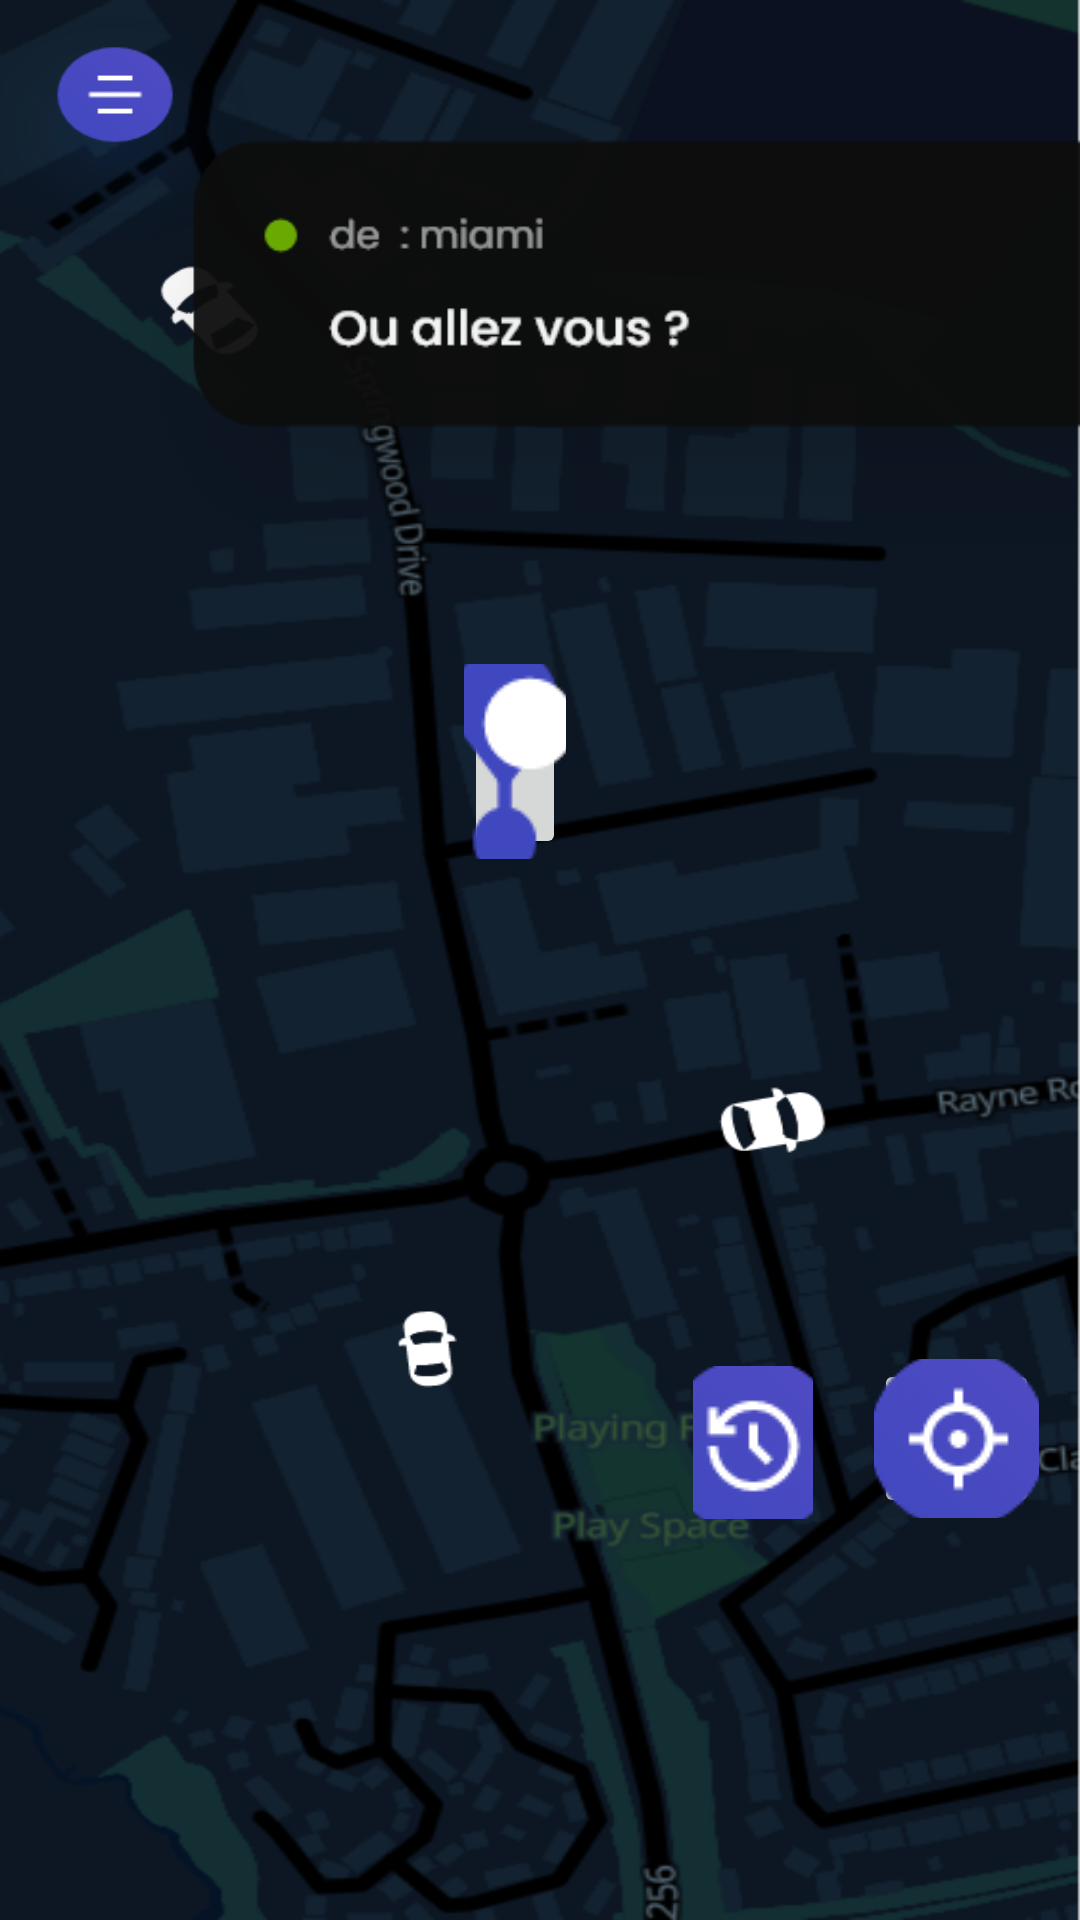

Icons on this 1080x1920 Android screen, each with the point to tap as [x,y]:
locate: [956,1438]
recent: [753,1442]
